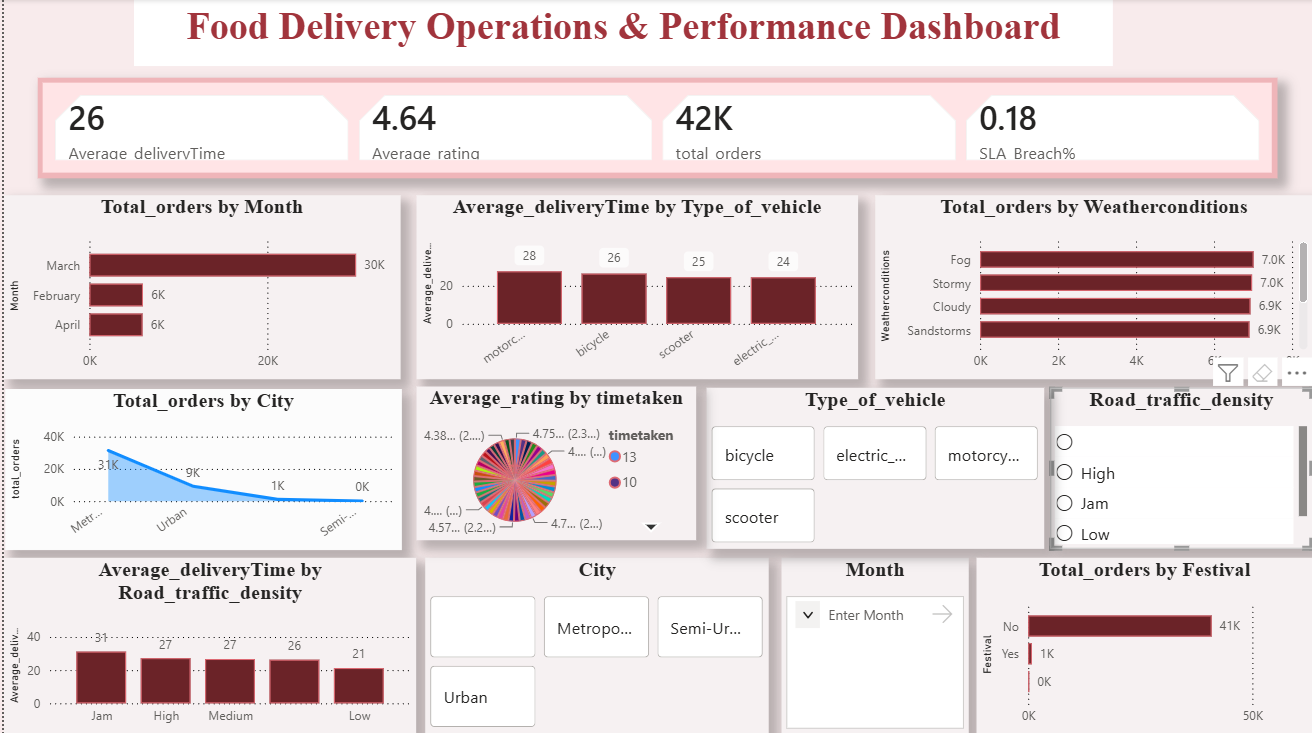

The dashboard page shown, as its layout file describes it:
{"tool":"powerbi","page":{"name":"Page 1","canvas":[1280,720],"ordinal":0},"visuals":[{"type":"cardVisual","fields":{"Data":["food_delivery.Average_deliveryTime","food_delivery.Average_rating","food_delivery.total_orders","food_delivery.SLA_Breach%"]},"box":[32.9,76.8,1213,98.8],"z":0},{"type":"textbox","box":[127.6,0,957.8,65.9],"z":1000},{"type":"barChart","title":"Total_orders by Month","fields":{"Category":["food_delivery.Month"],"Y":["food_delivery.total_orders"]},"box":[0,192,387.6,179.8],"z":2000},{"type":"areaChart","title":"Total_orders by City","fields":{"Category":["food_delivery.City"],"Y":["food_delivery.total_orders"]},"box":[1.2,381.5,387.6,157.7],"z":3000},{"type":"columnChart","fields":{"Category":["food_delivery.Road_traffic_density"],"Y":["food_delivery.Average_deliveryTime"]},"box":[0,546.6,403.5,172.4],"z":4000},{"type":"lineStackedColumnComboChart","fields":{"Category":["food_delivery.Type_of_vehicle"],"Y":["food_delivery.Average_deliveryTime"]},"box":[403.5,192,431.7,179.8],"z":5000},{"type":"barChart","title":"Total_orders by Weatherconditions","fields":{"Category":["food_delivery.Weatherconditions"],"Y":["food_delivery.total_orders"]},"box":[852.3,192,428,179.8],"z":6000},{"type":"advancedSlicerVisual","fields":{"Values":["food_delivery.City"]},"box":[412.1,546.6,336.3,172.4],"z":7000},{"type":"textSlicer","fields":{"Values":["food_delivery.Month"]},"box":[760.6,546.6,183.4,172.4],"z":8000},{"type":"listSlicer","fields":{"Values":["food_delivery.Road_traffic_density"]},"box":[1023.5,380.3,256.8,157.7],"z":9000},{"type":"advancedSlicerVisual","fields":{"Values":["food_delivery.Type_of_vehicle"]},"box":[687.2,380.3,330.2,157.7],"z":10000},{"type":"barChart","title":"Total_orders by Festival","fields":{"Category":["food_delivery.Festival"],"Y":["food_delivery.total_orders"]},"box":[951.4,546.6,328.9,172.4],"z":11000},{"type":"pieChart","fields":{"Y":["food_delivery.Average_rating"],"Category":["food_delivery.timetaken"]},"box":[403.5,379.1,273.9,150.4],"z":12000}]}

Visuals, with their boxes in screenshot pixels (x1, y1, x2, y2), scaled from the page's 1280x720 canvas onto the 1312x733 screenshot:
cardVisual - food_delivery.Average_deliveryTime x food_delivery.Average_rating: x1=34 y1=78 x2=1277 y2=179
textbox: x1=131 y1=0 x2=1113 y2=67
"Total_orders by Month" barChart: x1=0 y1=195 x2=397 y2=379
"Total_orders by City" areaChart: x1=1 y1=388 x2=399 y2=549
columnChart - food_delivery.Road_traffic_density x food_delivery.Average_deliveryTime: x1=0 y1=556 x2=414 y2=732
lineStackedColumnComboChart - food_delivery.Type_of_vehicle x food_delivery.Average_deliveryTime: x1=414 y1=195 x2=856 y2=379
"Total_orders by Weatherconditions" barChart: x1=874 y1=195 x2=1311 y2=379
advancedSlicerVisual - food_delivery.City: x1=422 y1=556 x2=767 y2=732
textSlicer - food_delivery.Month: x1=780 y1=556 x2=968 y2=732
listSlicer - food_delivery.Road_traffic_density: x1=1049 y1=387 x2=1311 y2=548
advancedSlicerVisual - food_delivery.Type_of_vehicle: x1=704 y1=387 x2=1043 y2=548
"Total_orders by Festival" barChart: x1=975 y1=556 x2=1311 y2=732
pieChart - food_delivery.Average_rating x food_delivery.timetaken: x1=414 y1=386 x2=694 y2=539
